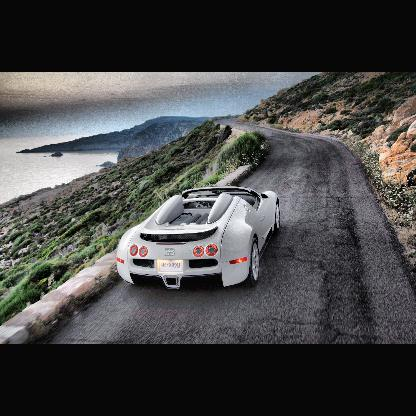Bugatti Veyron 16-4 Convertible 2009: (117, 187, 282, 291)
